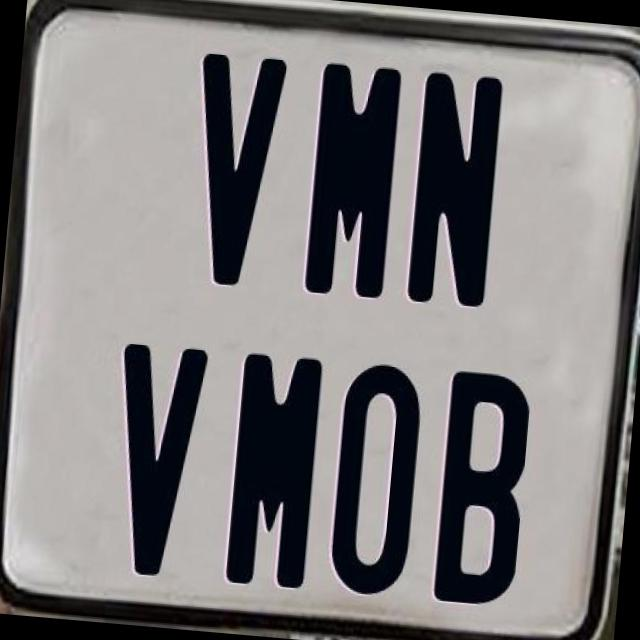0: (325, 359, 431, 604)
B: (432, 370, 532, 610)
M: (224, 352, 325, 596), (303, 62, 402, 305)
N: (401, 69, 500, 314)
V: (178, 52, 288, 294), (104, 341, 212, 587)
